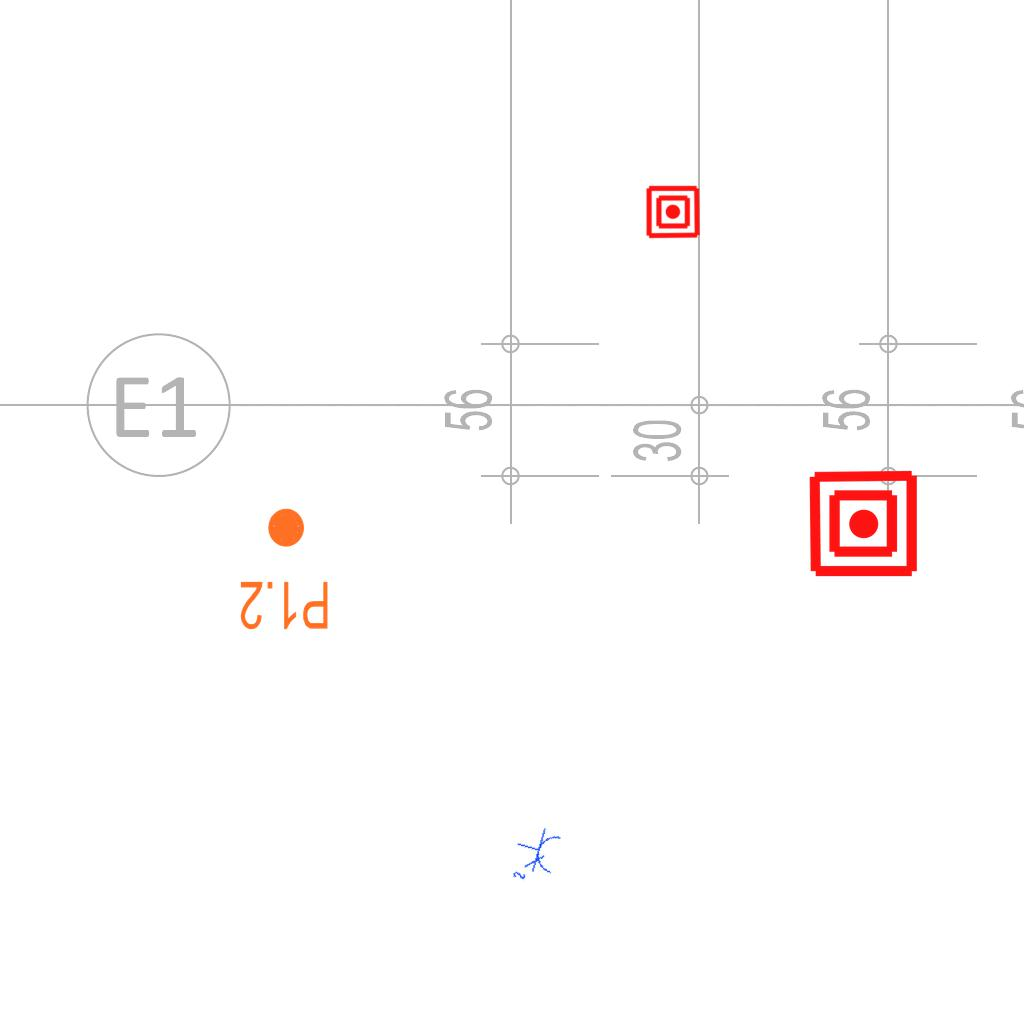Downlight_LED_Einbauleuchten_Flur: (238, 505, 331, 633)
NAM-Nichtautomatischer_Melder: (807, 467, 920, 580), (645, 184, 701, 240)
Schukosteckdose_mehrfach: (506, 821, 566, 891)
